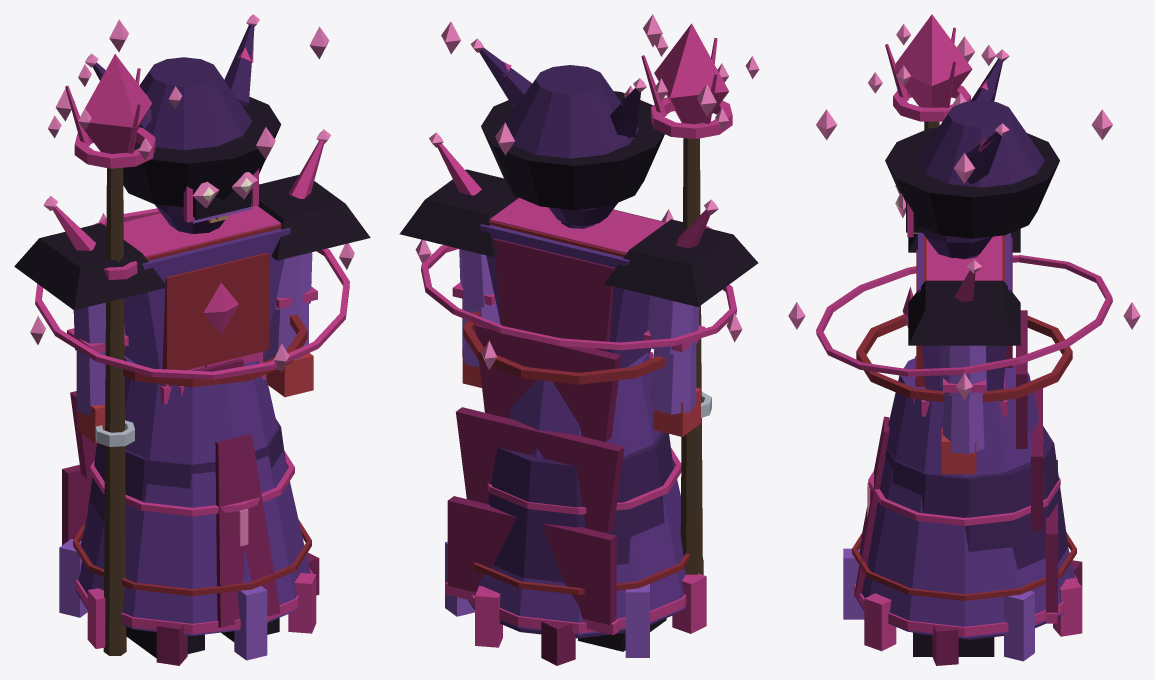
File: elite_wraith.obj
3 views of the same model, side by side, from view 1: azimuth 30°, elevation 25°; view 2: azimuth 150°, elevation 25°; view 3: azimuth 270°, elevation 25° (orthographic). The views are drawn at different scales.
Visible parts, largest first — view 1: hips, torso, head, weapon, arm_r, arm_l, aura, cape, focus, leg_r; view 2: cape, hips, head, arm_r, weapon, torso, arm_l, aura, focus, leg_r; view 3: hips, head, arm_l, torso, weapon, aura, cape, focus, leg_l.
Boxes of the visible parts, <box> form: hips: <box>59,356,319,665</box>; torso: <box>105,205,307,397</box>; head: <box>85,14,281,233</box>; weapon: <box>48,54,182,655</box>; arm_r: <box>14,196,167,443</box>; arm_l: <box>258,129,370,397</box>; aura: <box>30,208,354,379</box>; cape: <box>62,391,96,545</box>; focus: <box>55,19,329,159</box>; leg_r: <box>126,626,204,658</box>; cape: <box>445,238,624,635</box>; hips: <box>445,352,706,665</box>; head: <box>470,38,664,228</box>; arm_r: <box>604,199,758,436</box>; weapon: <box>624,23,759,574</box>; torso: <box>463,197,666,384</box>; arm_l: <box>399,132,518,387</box>; aura: <box>415,209,742,369</box>; focus: <box>441,14,716,155</box>; leg_r: <box>578,618,666,651</box>; hips: <box>843,358,1082,665</box>; head: <box>885,49,1059,259</box>; arm_l: <box>908,259,1020,474</box>; torso: <box>856,232,1072,403</box>; weapon: <box>868,14,995,130</box>; aura: <box>788,255,1140,400</box>; cape: <box>1005,237,1057,623</box>; focus: <box>816,36,1112,183</box>; leg_l: <box>913,633,994,656</box>.
Bounding box in the file's own units: 0.652 × 1.17 × 0.652.
